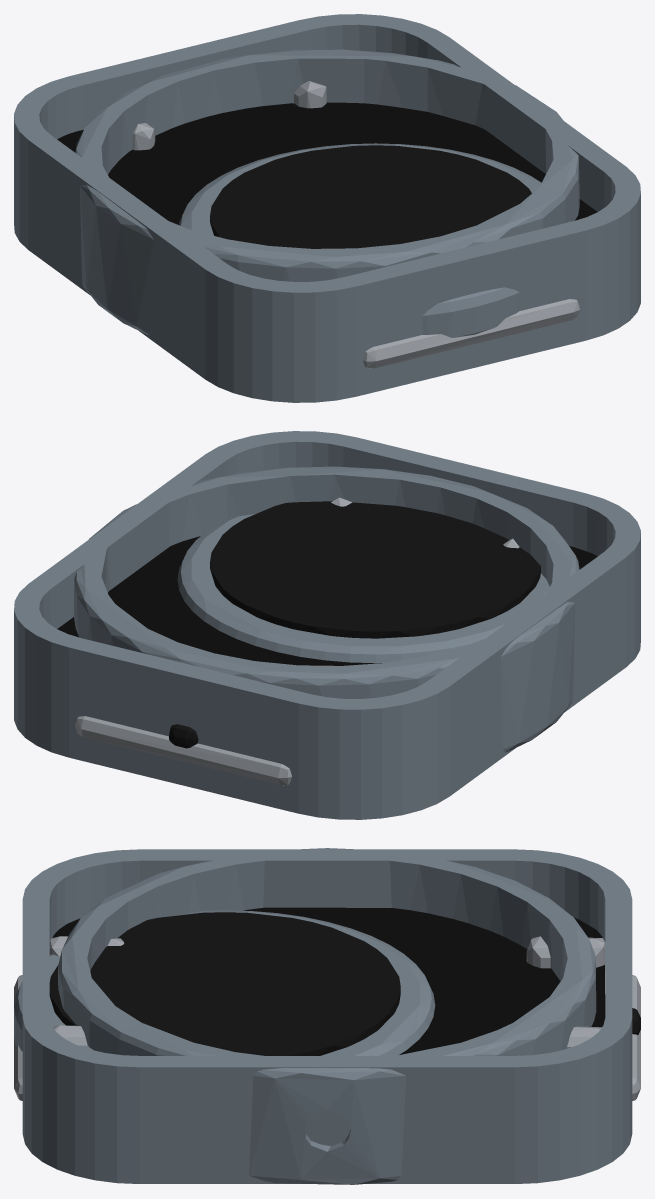
File: relojes_demo.glb
3 renders of one model, top to bottom at view 1: azimuth 30°, elevation 25°; view 2: azimuth 150°, elevation 25°; view 3: azimuth 270°, elevation 25°, orthographic. The views are drawn at different scales.
Visible parts, largest first — view 1: caja_reloj@cuadrada, caja_reloj@redonda, base_carga_magnetica@reloj, pantalla@reloj_cuadrada; view 2: caja_reloj@cuadrada, base_carga_magnetica@reloj, caja_reloj@redonda, pantalla@reloj_cuadrada; view 3: caja_reloj@cuadrada, caja_reloj@redonda, base_carga_magnetica@reloj, pantalla@reloj_cuadrada.
Part boxes in pixels (left/top/right/bottom): caja_reloj@cuadrada: left=14, top=14, right=640, bottom=402; caja_reloj@redonda: left=75, top=49, right=579, bottom=335; base_carga_magnetica@reloj: left=179, top=143, right=570, bottom=337; pantalla@reloj_cuadrada: left=57, top=102, right=597, bottom=224; caja_reloj@cuadrada: left=14, top=431, right=640, bottom=819; base_carga_magnetica@reloj: left=169, top=501, right=549, bottom=748; caja_reloj@redonda: left=73, top=466, right=579, bottom=752; pantalla@reloj_cuadrada: left=57, top=536, right=597, bottom=665; caja_reloj@cuadrada: left=14, top=849, right=640, bottom=1183; caja_reloj@redonda: left=49, top=848, right=605, bottom=1184; base_carga_magnetica@reloj: left=14, top=910, right=640, bottom=1055; pantalla@reloj_cuadrada: left=52, top=907, right=605, bottom=1054.
Bounding box in the file's own units: 4.6 × 1.1 × 5.35.
